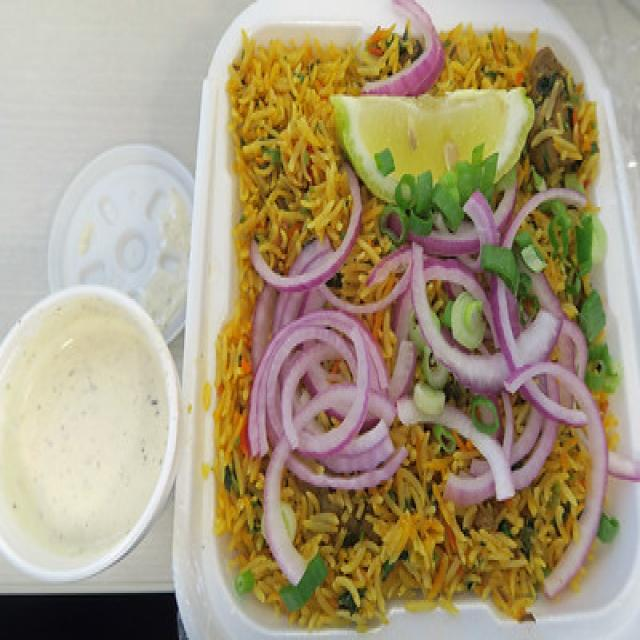Biryani: (225, 42, 578, 602)
